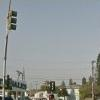Traffic light: (4, 5, 21, 36)
